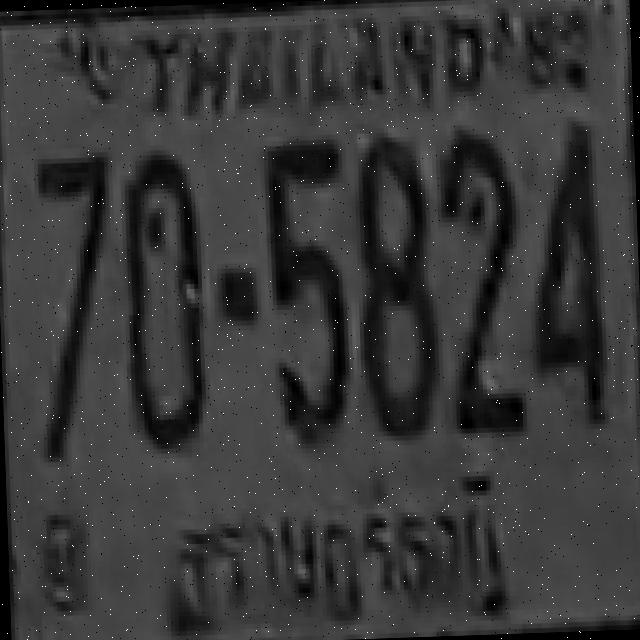0: (119, 148, 207, 450)
4: (520, 120, 604, 421), (522, 118, 600, 361)
5: (259, 134, 343, 310)
7: (33, 150, 113, 324)
8: (352, 131, 437, 432)
SuratThani: (158, 462, 516, 624)
